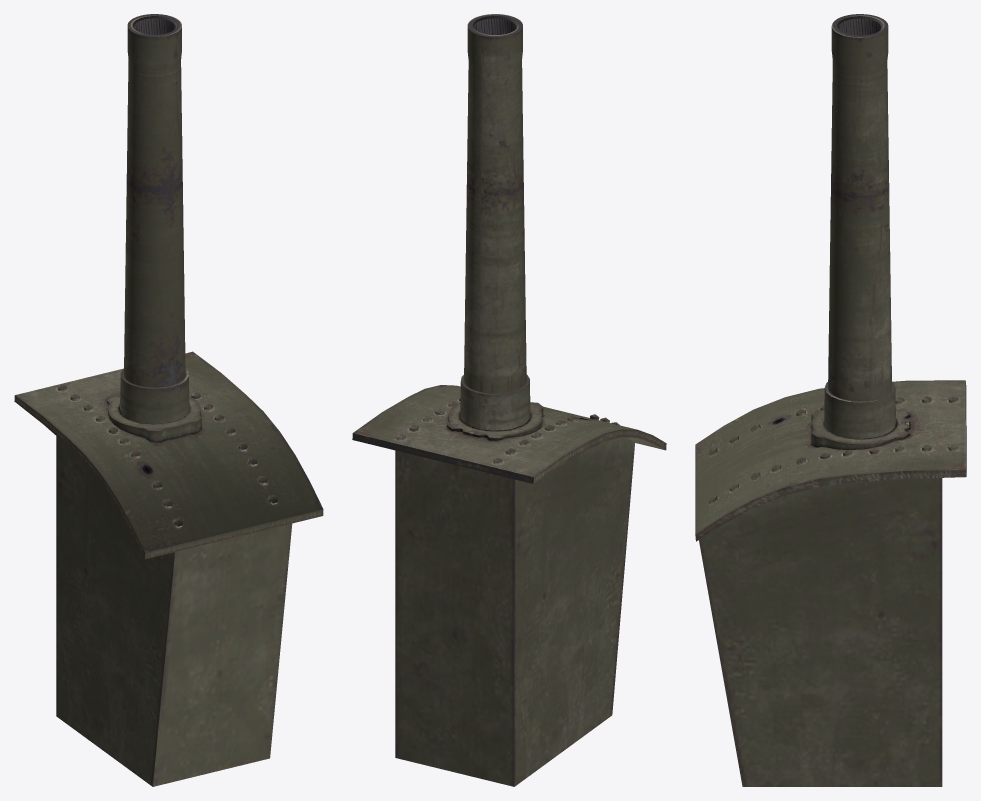
File: Gun_02.glb
3 renders of one model, left to right at view 1: azimuth 30°, elevation 25°; view 2: azimuth 150°, elevation 25°; view 3: azimuth 270°, elevation 25°, orthographic. The views are drawn at different scales.
Parts seen in each view (by area): view 1: set_0_group_0; view 2: set_0_group_0; view 3: set_0_group_0.
Boxes of the visible parts, x1,y1,x2,y2 form: set_0_group_0: (14, 14, 323, 786); set_0_group_0: (352, 14, 666, 786); set_0_group_0: (695, 14, 966, 786).
Size of the model in its own units: 1.02 by 3.88 by 1.3.
1 material, 1 textured.
